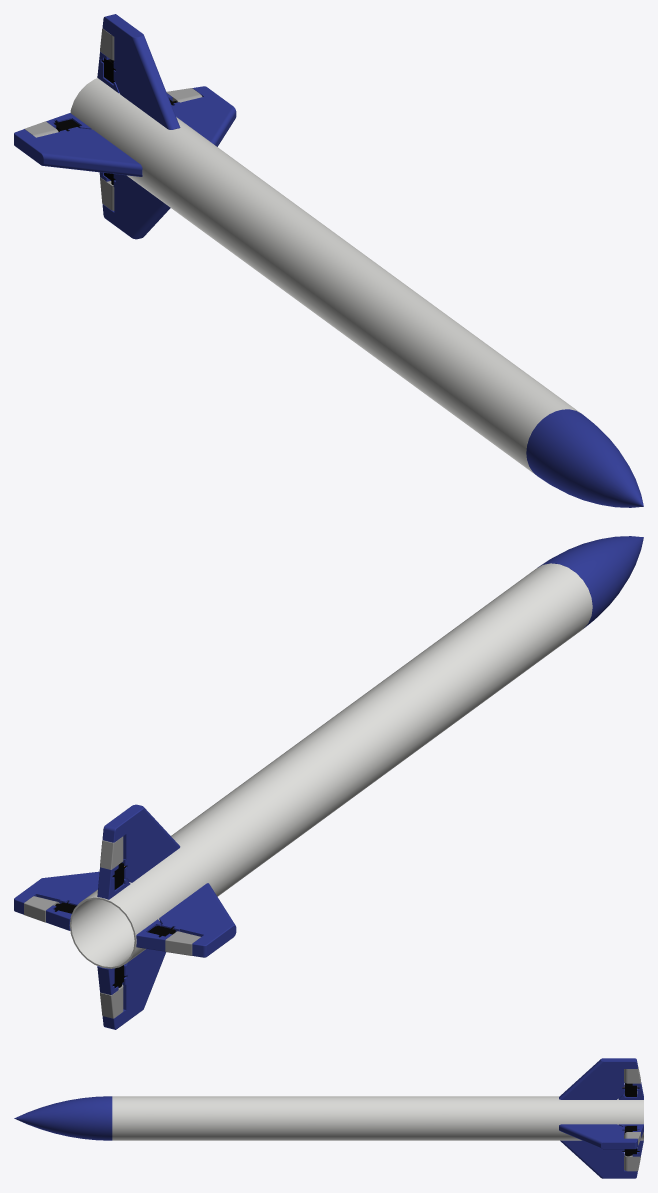
Rendered from rocket.obj.
3 views of the same model, one above another, from view 1: azimuth 30°, elevation 25°; view 2: azimuth 150°, elevation 25°; view 3: azimuth 270°, elevation 25° (orthographic). The views are drawn at different scales.
Parts seen in each view (by area): view 1: BODY-TUBE, NOSE-CONE, FIN-X_1, FIN-X_1:1, FIN-X_1:2, FIN-X_1:3; view 2: BODY-TUBE, NOSE-CONE, FIN-X_1, FIN-X_1:1, FIN-X_1:2, FIN-X_1:3; view 3: BODY-TUBE, NOSE-CONE, FIN-X_1, FIN-X_1:2, FIN-X_1:3, TAB-X_1:2, TAB-X_1.
Boxes of the visible parts, x1=… form: BODY-TUBE: x1=70, y1=78, x2=580, y2=475; NOSE-CONE: x1=526, y1=409, x2=643, y2=507; FIN-X_1: x1=102, y1=14, x2=180, y2=129; FIN-X_1:1: x1=14, y1=127, x2=142, y2=176; FIN-X_1:2: x1=102, y1=174, x2=170, y2=239; FIN-X_1:3: x1=171, y1=86, x2=236, y2=146; BODY-TUBE: x1=69, y1=563, x2=592, y2=968; NOSE-CONE: x1=537, y1=536, x2=643, y2=628; FIN-X_1: x1=102, y1=804, x2=180, y2=882; FIN-X_1:1: x1=159, y1=883, x2=236, y2=957; FIN-X_1:2: x1=102, y1=949, x2=166, y2=1029; FIN-X_1:3: x1=14, y1=871, x2=99, y2=914; BODY-TUBE: x1=112, y1=1096, x2=643, y2=1140; NOSE-CONE: x1=14, y1=1096, x2=112, y2=1140; FIN-X_1: x1=559, y1=1058, x2=637, y2=1099; FIN-X_1:2: x1=560, y1=1140, x2=637, y2=1178; FIN-X_1:3: x1=559, y1=1124, x2=637, y2=1149; TAB-X_1:2: x1=624, y1=1154, x2=640, y2=1171; TAB-X_1: x1=624, y1=1066, x2=640, y2=1083.
Size of the model in its own units: 24.39 by 24.39 by 118.
